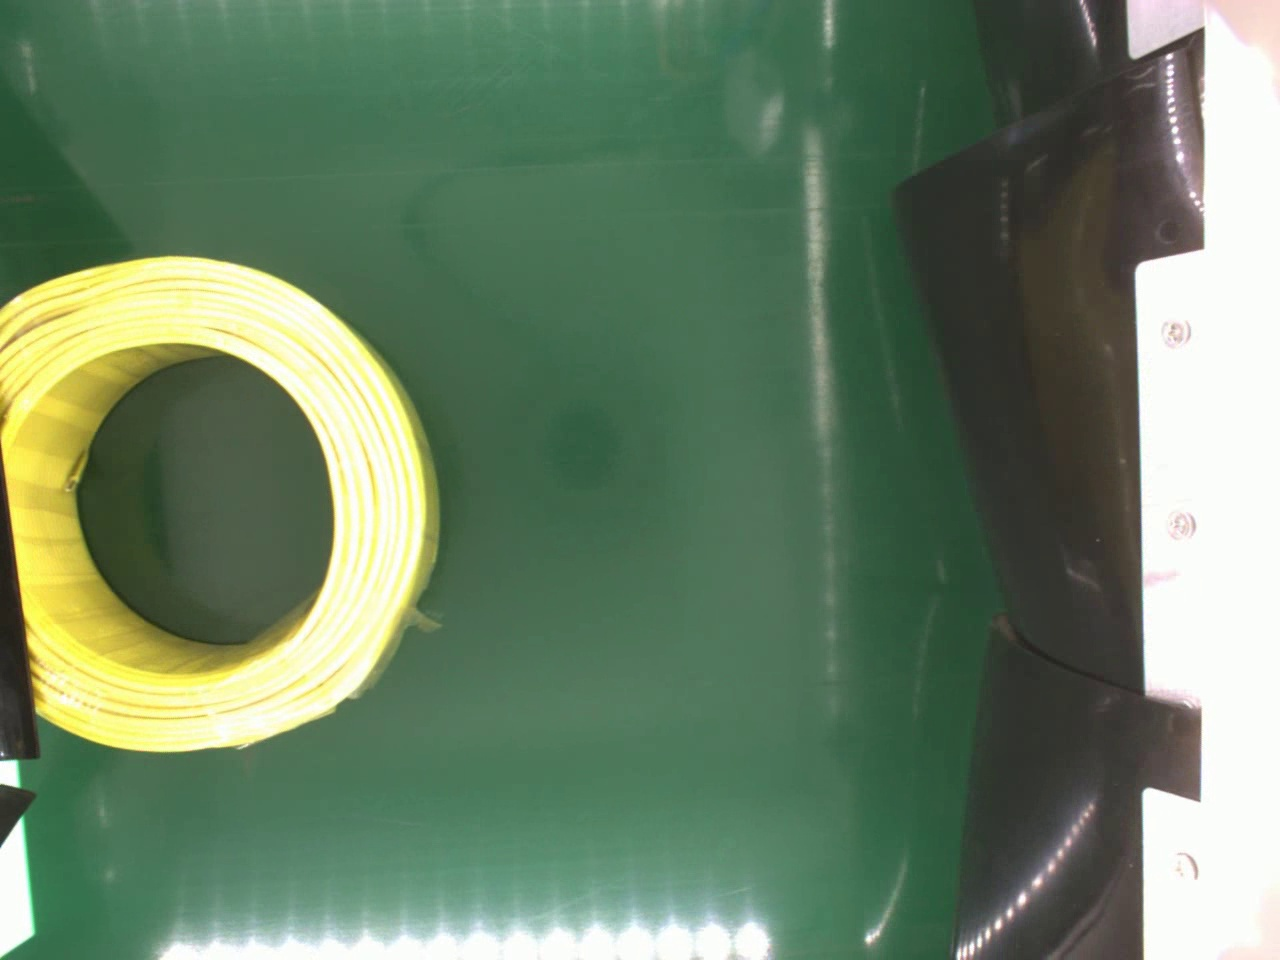yellow: (0, 251, 450, 752)
